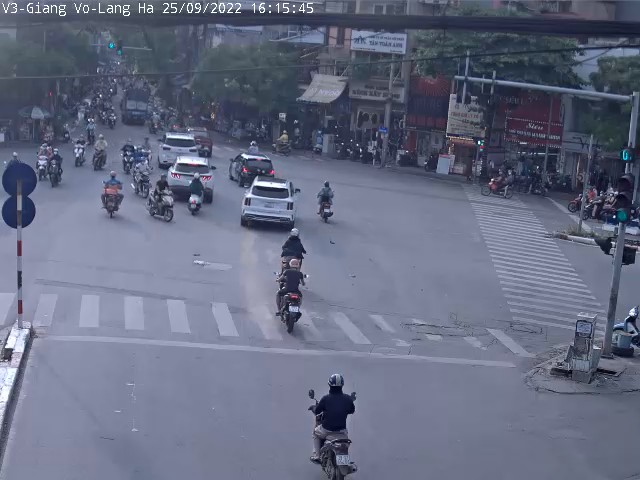người trên xe: (298, 371, 371, 480), (263, 258, 314, 336), (270, 224, 307, 287), (97, 166, 128, 221), (146, 174, 178, 225), (477, 168, 522, 200), (315, 176, 342, 228), (183, 169, 208, 217), (130, 150, 153, 200), (88, 132, 112, 173), (69, 129, 93, 170), (114, 137, 138, 177), (45, 144, 66, 188), (271, 128, 292, 159)
